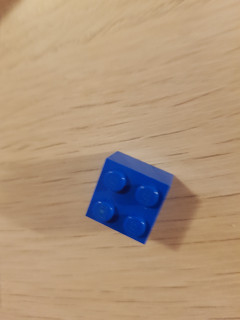2x2 blue: (82, 149, 176, 247)
